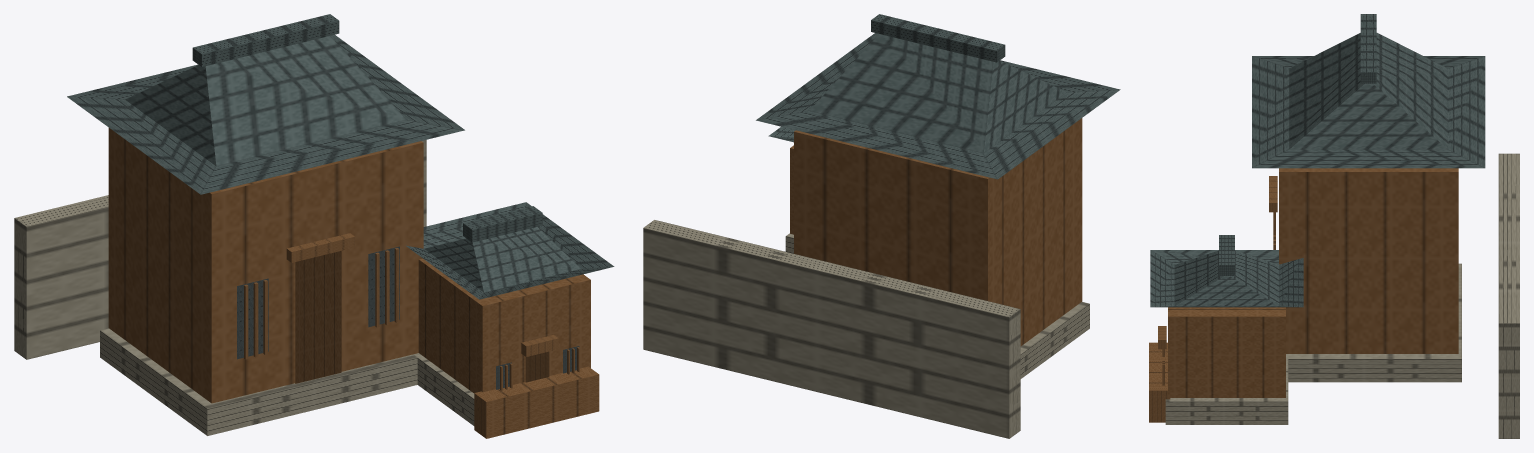
The model's file is domestic-STABLE-3-lod1.glb.
3 renders of one model, left to right at view 1: azimuth 30°, elevation 25°; view 2: azimuth 150°, elevation 25°; view 3: azimuth 270°, elevation 25°, orthographic. The views are drawn at different scales.
Size of the model in its own units: 0.85 by 0.691 by 0.785.
Materials: 1 (1 with a texture image).
